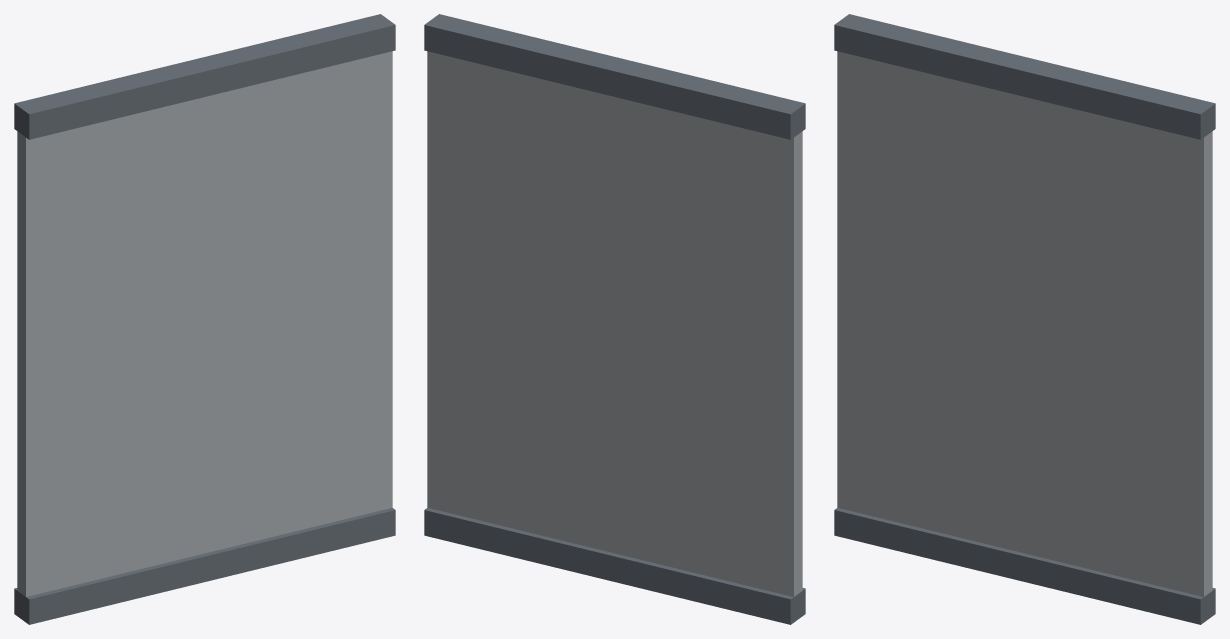
Rendered from CubicalWall_02.FBX.
3 views of the same model, side by side, from view 1: azimuth 30°, elevation 25°; view 2: azimuth 150°, elevation 25°; view 3: azimuth 330°, elevation 25° (orthographic).
Parts seen in each view (by area): view 1: CubicalWall_02; view 2: CubicalWall_02; view 3: CubicalWall_02.
Part boxes in pixels (<box>): CubicalWall_02: <box>14,14,395,624</box>; CubicalWall_02: <box>424,14,805,624</box>; CubicalWall_02: <box>834,14,1215,624</box>.
Bounding box in the file's own units: 100 × 133 × 7.06.
